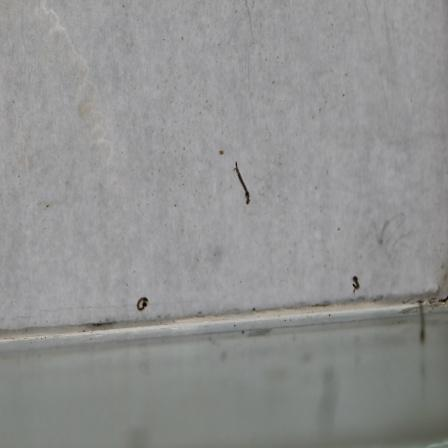Jentik-Nyamuk: (232, 160, 253, 207), (134, 295, 153, 313), (349, 273, 363, 294)
